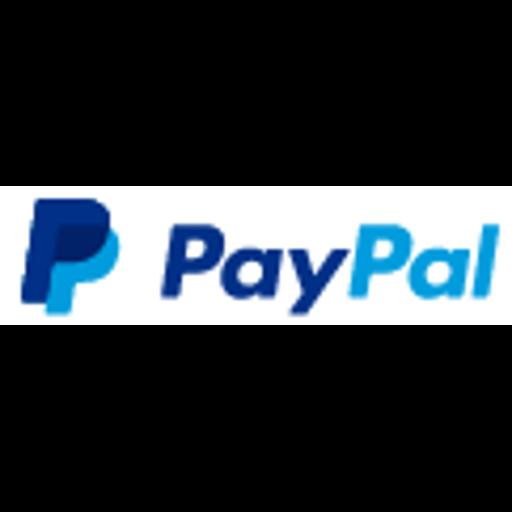PayPal: (0, 186, 512, 325)
